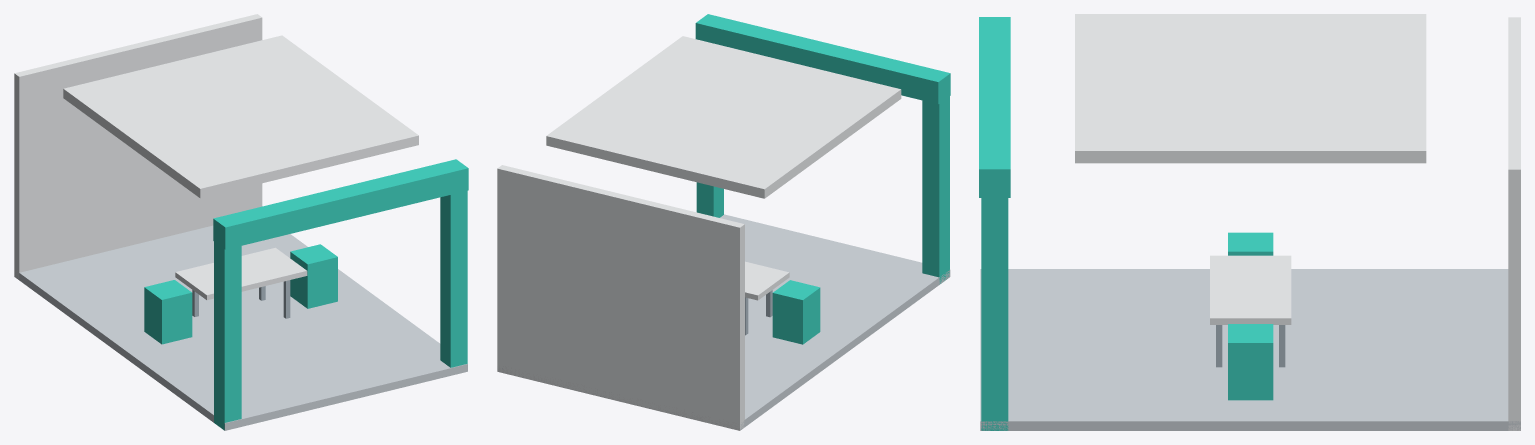
3 views of the same model, side by side, from view 1: azimuth 30°, elevation 25°; view 2: azimuth 150°, elevation 25°; view 3: azimuth 270°, elevation 25° (orthographic). The views are drawn at different scales.
Visible parts, largest first — view 1: Exhibition Booth Concept; view 2: Exhibition Booth Concept; view 3: Exhibition Booth Concept.
Part boxes in pixels (bbox=[...]): Exhibition Booth Concept: bbox=[14, 14, 468, 430]; Exhibition Booth Concept: bbox=[497, 14, 950, 430]; Exhibition Booth Concept: bbox=[979, 14, 1520, 430].
Size of the model in its own units: 4 by 3.34 by 6.02.
